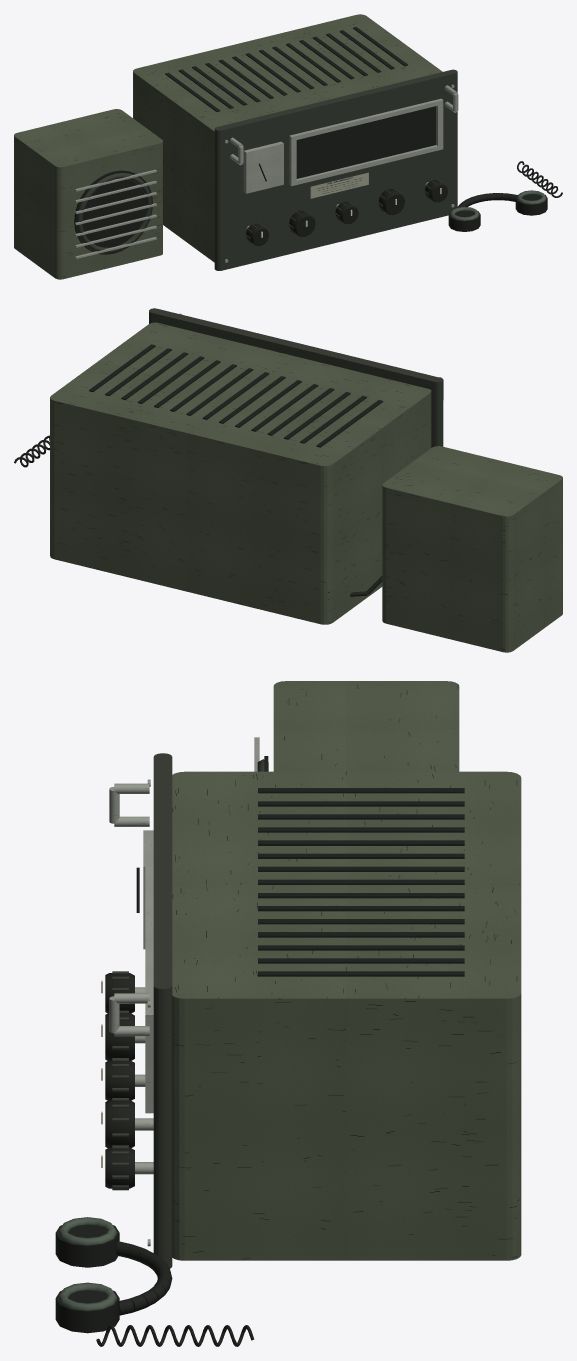
The model's file is SM_FieldKit_Receiver.fbx.
3 renders of one model, top to bottom at view 1: azimuth 30°, elevation 25°; view 2: azimuth 150°, elevation 25°; view 3: azimuth 270°, elevation 25°, orthographic. The views are drawn at different scales.
Parts seen in each view (by area): view 1: SM_FieldKit_Receiver; view 2: SM_FieldKit_Receiver; view 3: SM_FieldKit_Receiver.
Boxes of the visible parts, <box> form: SM_FieldKit_Receiver: <box>14,14,562,279</box>; SM_FieldKit_Receiver: <box>14,308,562,652</box>; SM_FieldKit_Receiver: <box>55,681,521,1346</box>.
Size of the model in its own units: 1.03 by 0.451 by 0.309.
